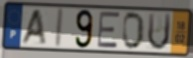9: (73, 8, 96, 50)
A: (19, 9, 48, 46)
E: (96, 11, 121, 50)
I: (53, 7, 66, 50)
O: (122, 11, 146, 51)
U: (146, 12, 173, 53)
